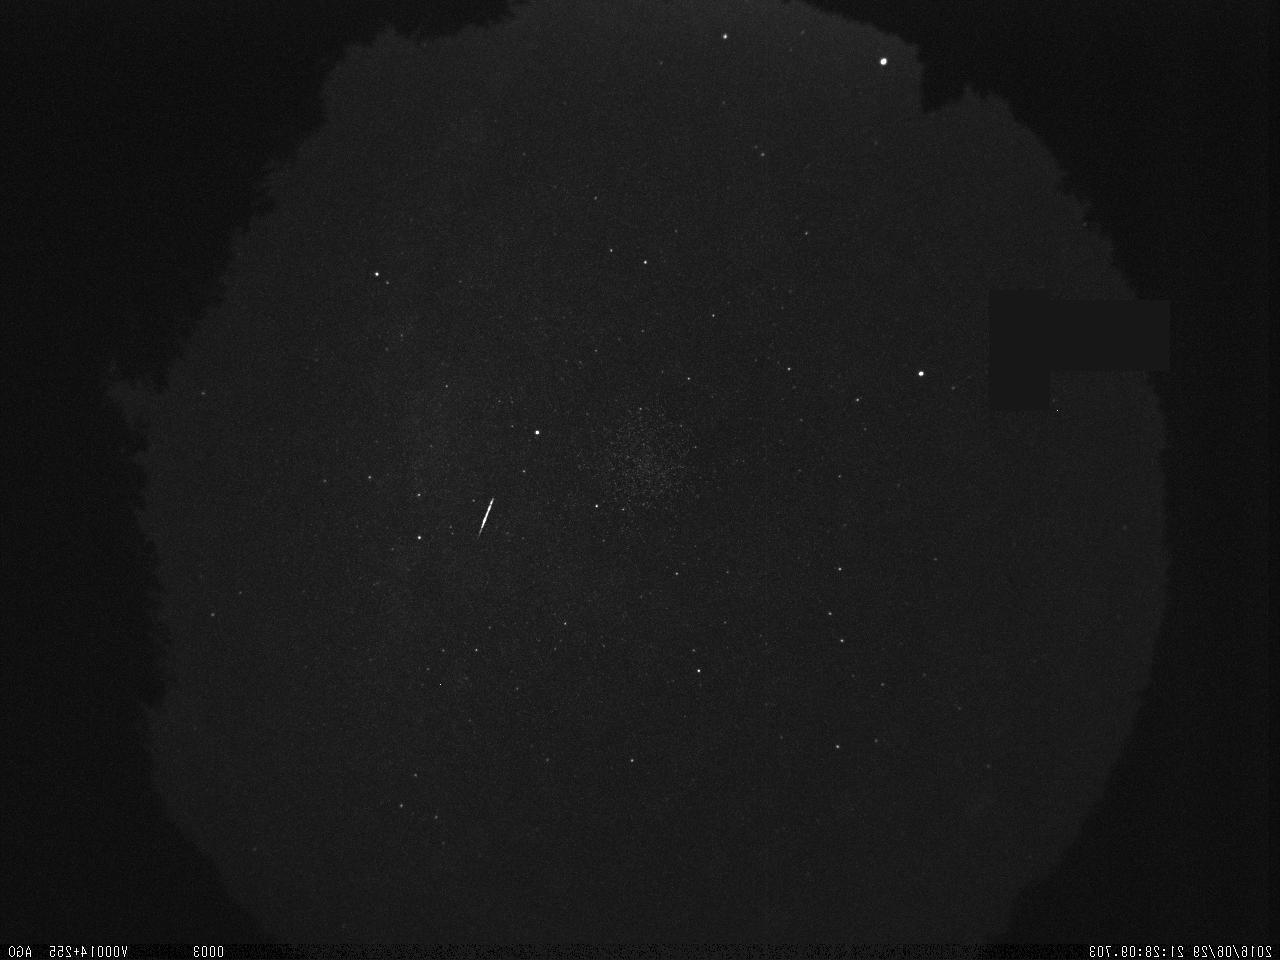meteor: (469, 493, 503, 542)
